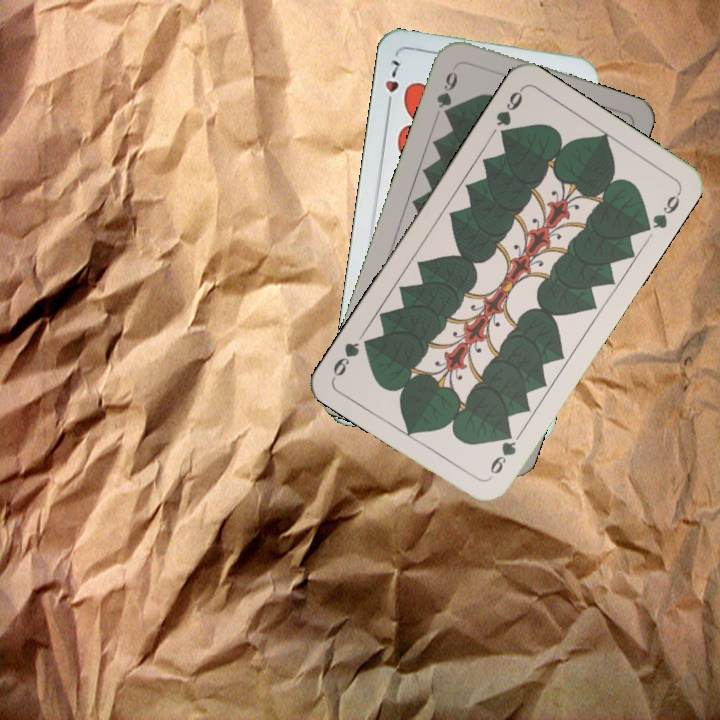G9: (492, 84, 525, 142), (485, 426, 519, 481), (432, 60, 461, 120)
H7: (381, 55, 403, 112)
